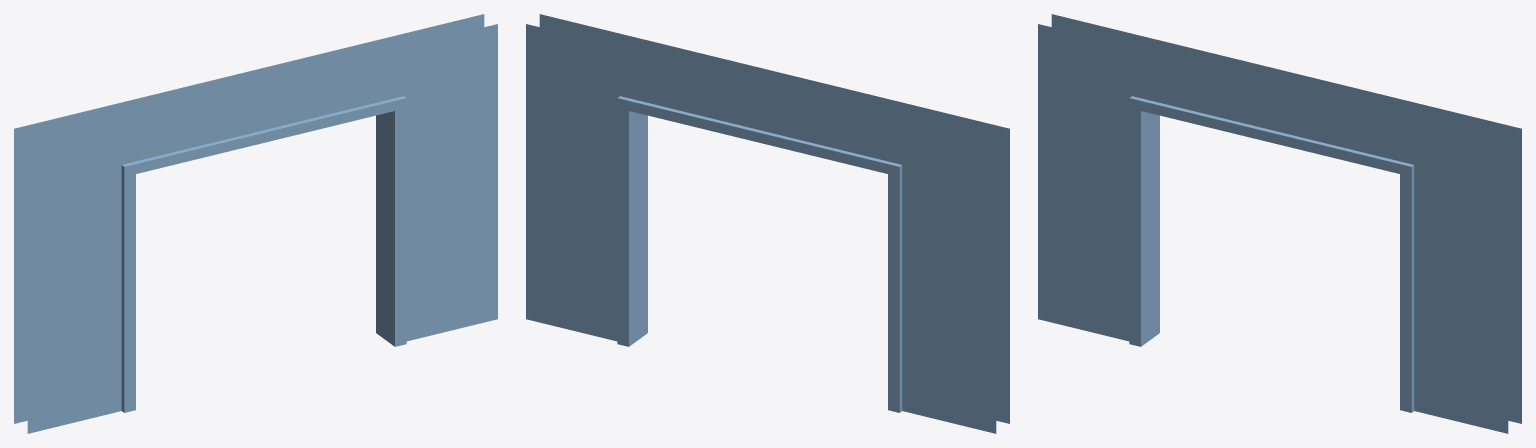
The model's file is PSKwallDoorAssy.FBX.
3 renders of one model, left to right at view 1: azimuth 30°, elevation 25°; view 2: azimuth 150°, elevation 25°; view 3: azimuth 330°, elevation 25°, orthographic.
Visible parts, largest first — view 1: PSKwallDoor, PSKdoorwayFrame; view 2: PSKwallDoor, PSKdoorwayFrame; view 3: PSKwallDoor, PSKdoorwayFrame.
Boxes of the visible parts, x1,y1,x2,y2 form: PSKwallDoor: (14,14,497,433); PSKdoorwayFrame: (121,96,406,412); PSKwallDoor: (526,14,1009,433); PSKdoorwayFrame: (617,96,902,412); PSKwallDoor: (1038,14,1521,433); PSKdoorwayFrame: (1129,96,1414,412).
Size of the model in its own units: 5 by 3 by 0.35.
